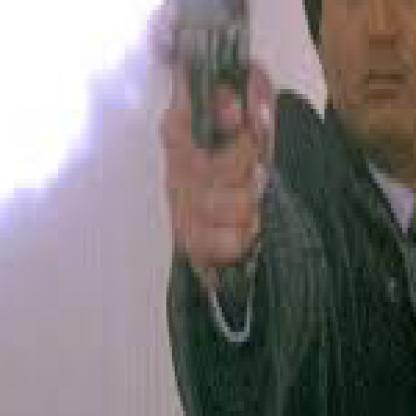gun: (114, 69, 413, 411)
